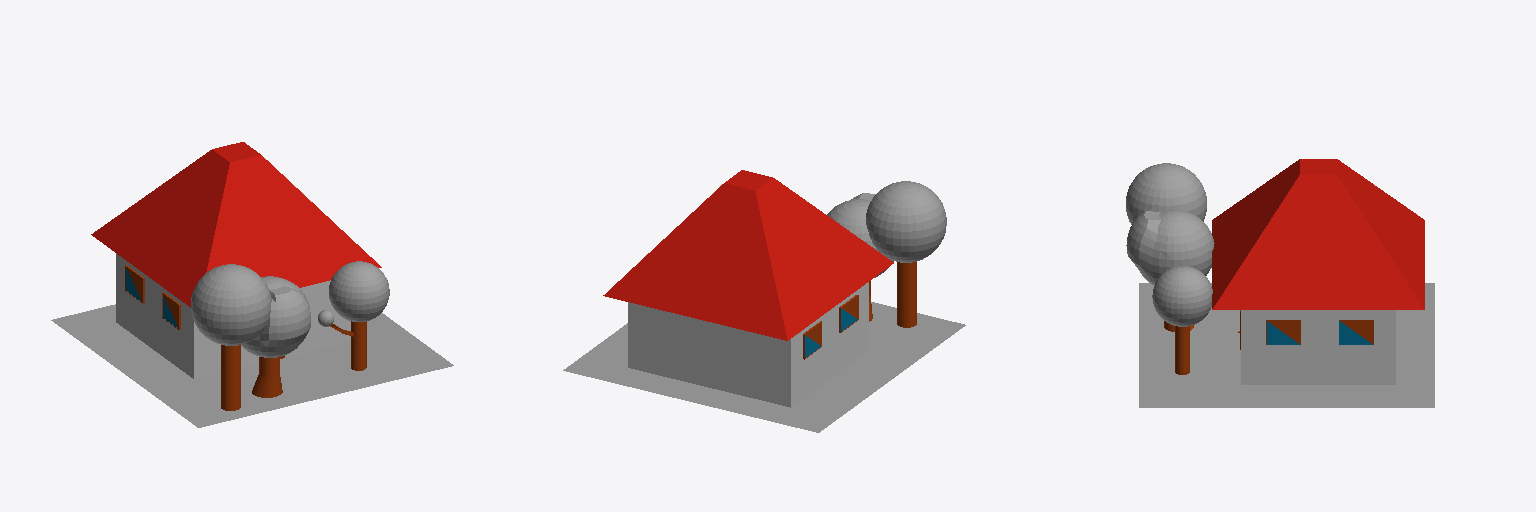
File: House.obj
3 views of the same model, side by side, from view 1: azimuth 30°, elevation 25°; view 2: azimuth 150°, elevation 25°; view 3: azimuth 270°, elevation 25° (orthographic).
Visible parts, largest first — view 1: Cube.001_Cube.002, Plane, Cube_Cube.001, Cylinder.001, Cylinder.000_Cylinder.003, Cylinder.002, Window.003_Cube.010; view 2: Cube.001_Cube.002, Cube_Cube.001, Plane, Cylinder.001, Cylinder.000_Cylinder.003, Window.002_Cube.009; view 3: Cube.001_Cube.002, Plane, Cube_Cube.001, Cylinder.000_Cylinder.003, Cylinder.002, Cylinder.001, Window.001_Cube.008, Window_Cube.005.
Part boxes in pixels (x1,y1,x2,y2): Cube.001_Cube.002: (91, 142, 381, 307); Plane: (51, 304, 453, 427); Cube_Cube.001: (116, 253, 350, 378); Cylinder.001: (191, 264, 271, 410); Cylinder.000_Cylinder.003: (241, 276, 310, 397); Cylinder.002: (318, 261, 389, 370); Window.003_Cube.010: (125, 265, 144, 303); Cube.001_Cube.002: (603, 170, 893, 340); Cube_Cube.001: (628, 282, 868, 407); Plane: (563, 302, 965, 432); Cylinder.001: (866, 181, 946, 327); Cylinder.000_Cylinder.003: (827, 193, 893, 321); Window.002_Cube.009: (839, 295, 858, 332); Cube.001_Cube.002: (1212, 159, 1424, 309); Plane: (1139, 283, 1434, 407); Cube_Cube.001: (1241, 310, 1395, 384); Cylinder.000_Cylinder.003: (1126, 210, 1214, 331); Cylinder.002: (1152, 266, 1212, 374); Cylinder.001: (1126, 163, 1206, 224); Window.001_Cube.008: (1339, 320, 1373, 344); Window_Cube.005: (1266, 320, 1300, 344).
Size of the model in its own units: 6 by 4.02 by 6.27.